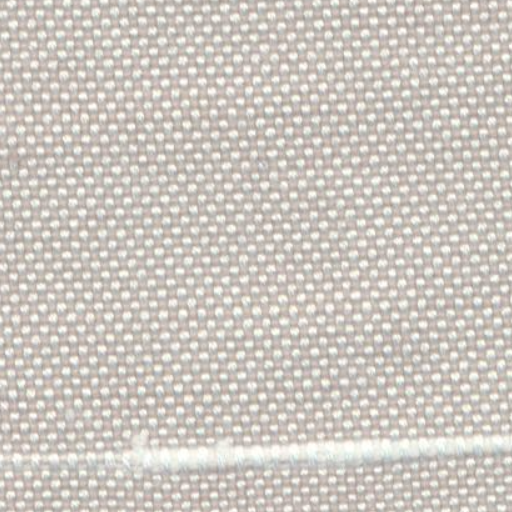DaiSha: (16, 406, 504, 479)
